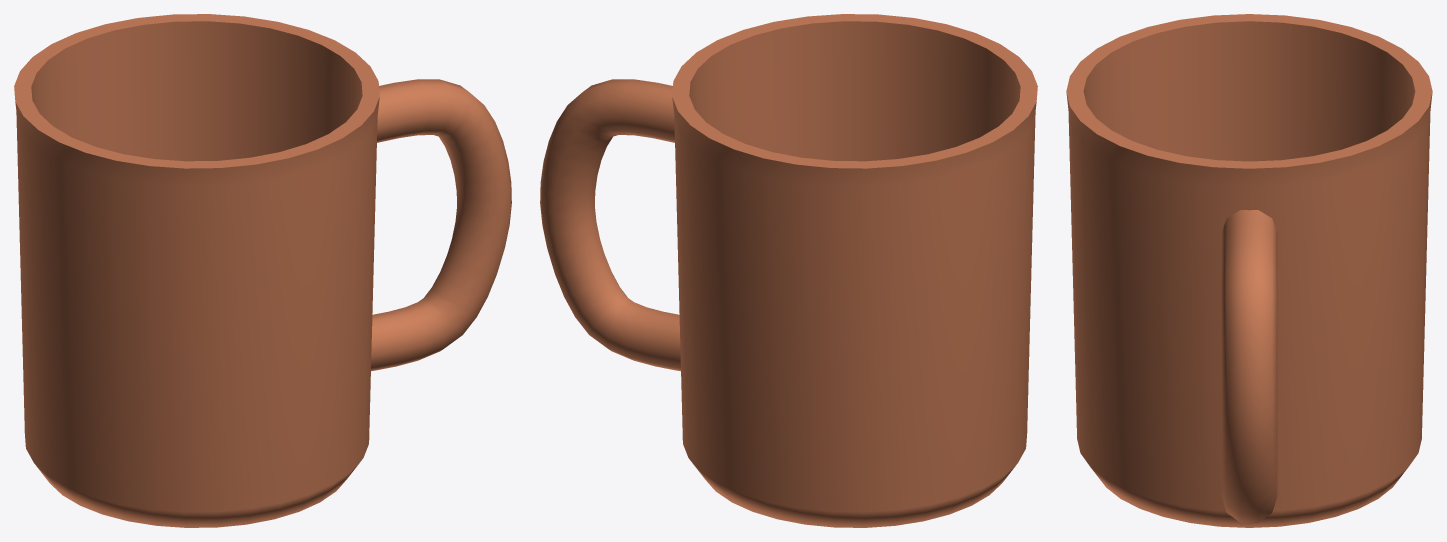
The model's file is ap_mug.glb.
3 views of the same model, side by side, from view 1: azimuth 30°, elevation 25°; view 2: azimuth 150°, elevation 25°; view 3: azimuth 270°, elevation 25° (orthographic).
Visible parts, largest first — view 1: ap_mug; view 2: ap_mug; view 3: ap_mug.
Boxes of the visible parts, x1,y1,x2,y2 form: ap_mug: (14, 14, 511, 527); ap_mug: (540, 14, 1037, 527); ap_mug: (1066, 14, 1432, 527).
Size of the model in its own units: 0.1257 by 0.095 by 0.085.
